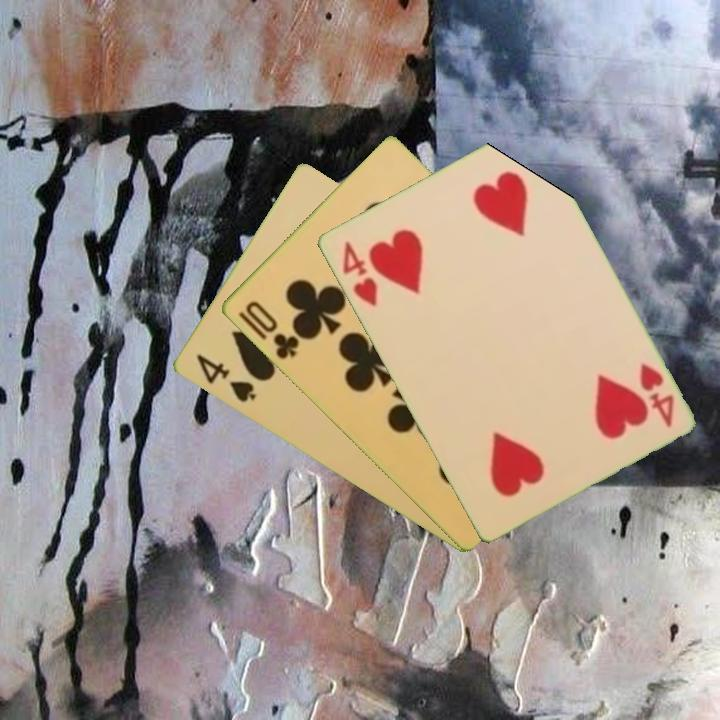10c: (241, 297, 302, 362)
4h: (338, 237, 380, 310), (635, 359, 677, 430)
4s: (192, 350, 259, 406)
